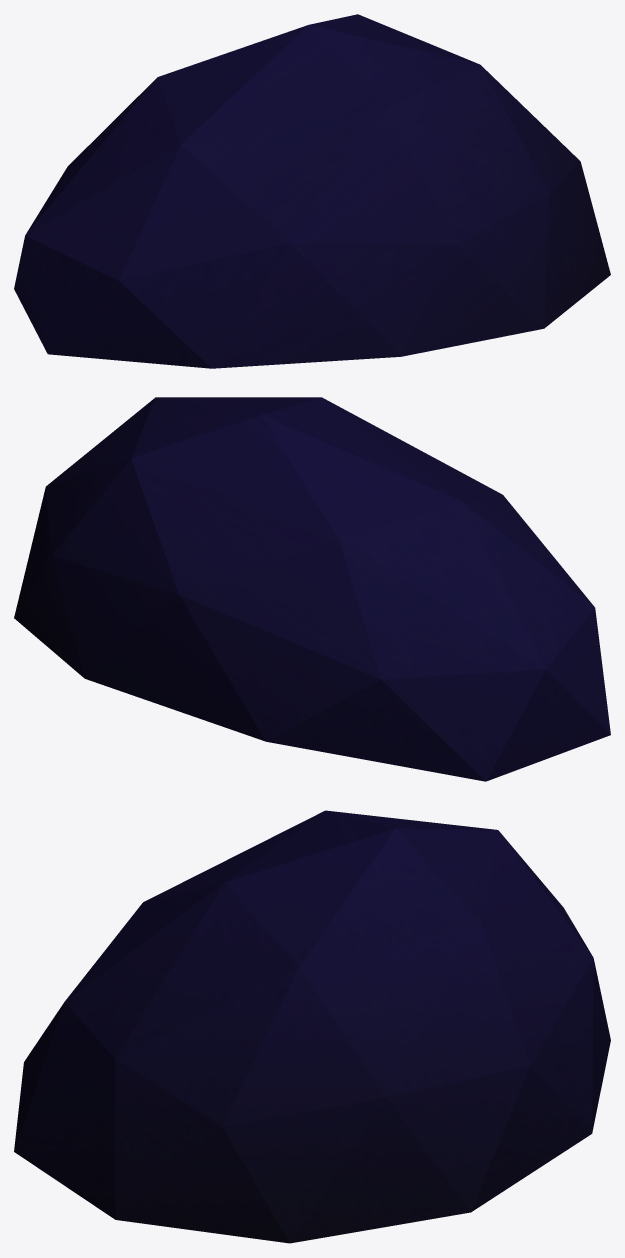
File: SM_Rock05_Var2.fbx
The picture shows the model from 3 angles, top to bottom: view 1: azimuth 30°, elevation 25°; view 2: azimuth 150°, elevation 25°; view 3: azimuth 270°, elevation 25°; orthographic projection. The views are drawn at different scales.
Parts seen in each view (by area): view 1: SmallRock01.002; view 2: SmallRock01.002; view 3: SmallRock01.002.
Boxes of the visible parts, left/top/right/bottom form: SmallRock01.002: left=14, top=14, right=610, bottom=368; SmallRock01.002: left=14, top=397, right=610, bottom=781; SmallRock01.002: left=14, top=810, right=610, bottom=1243.
Size of the model in its own units: 148 by 64.98 by 116.
